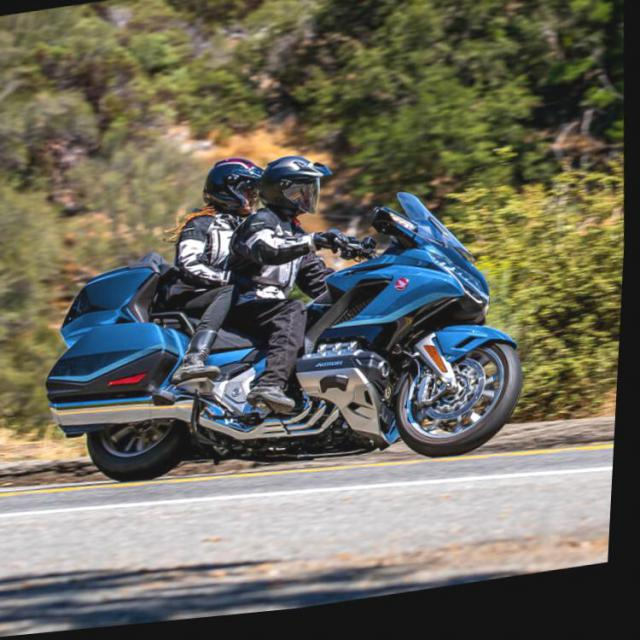Gold Wing: (38, 181, 541, 520)
